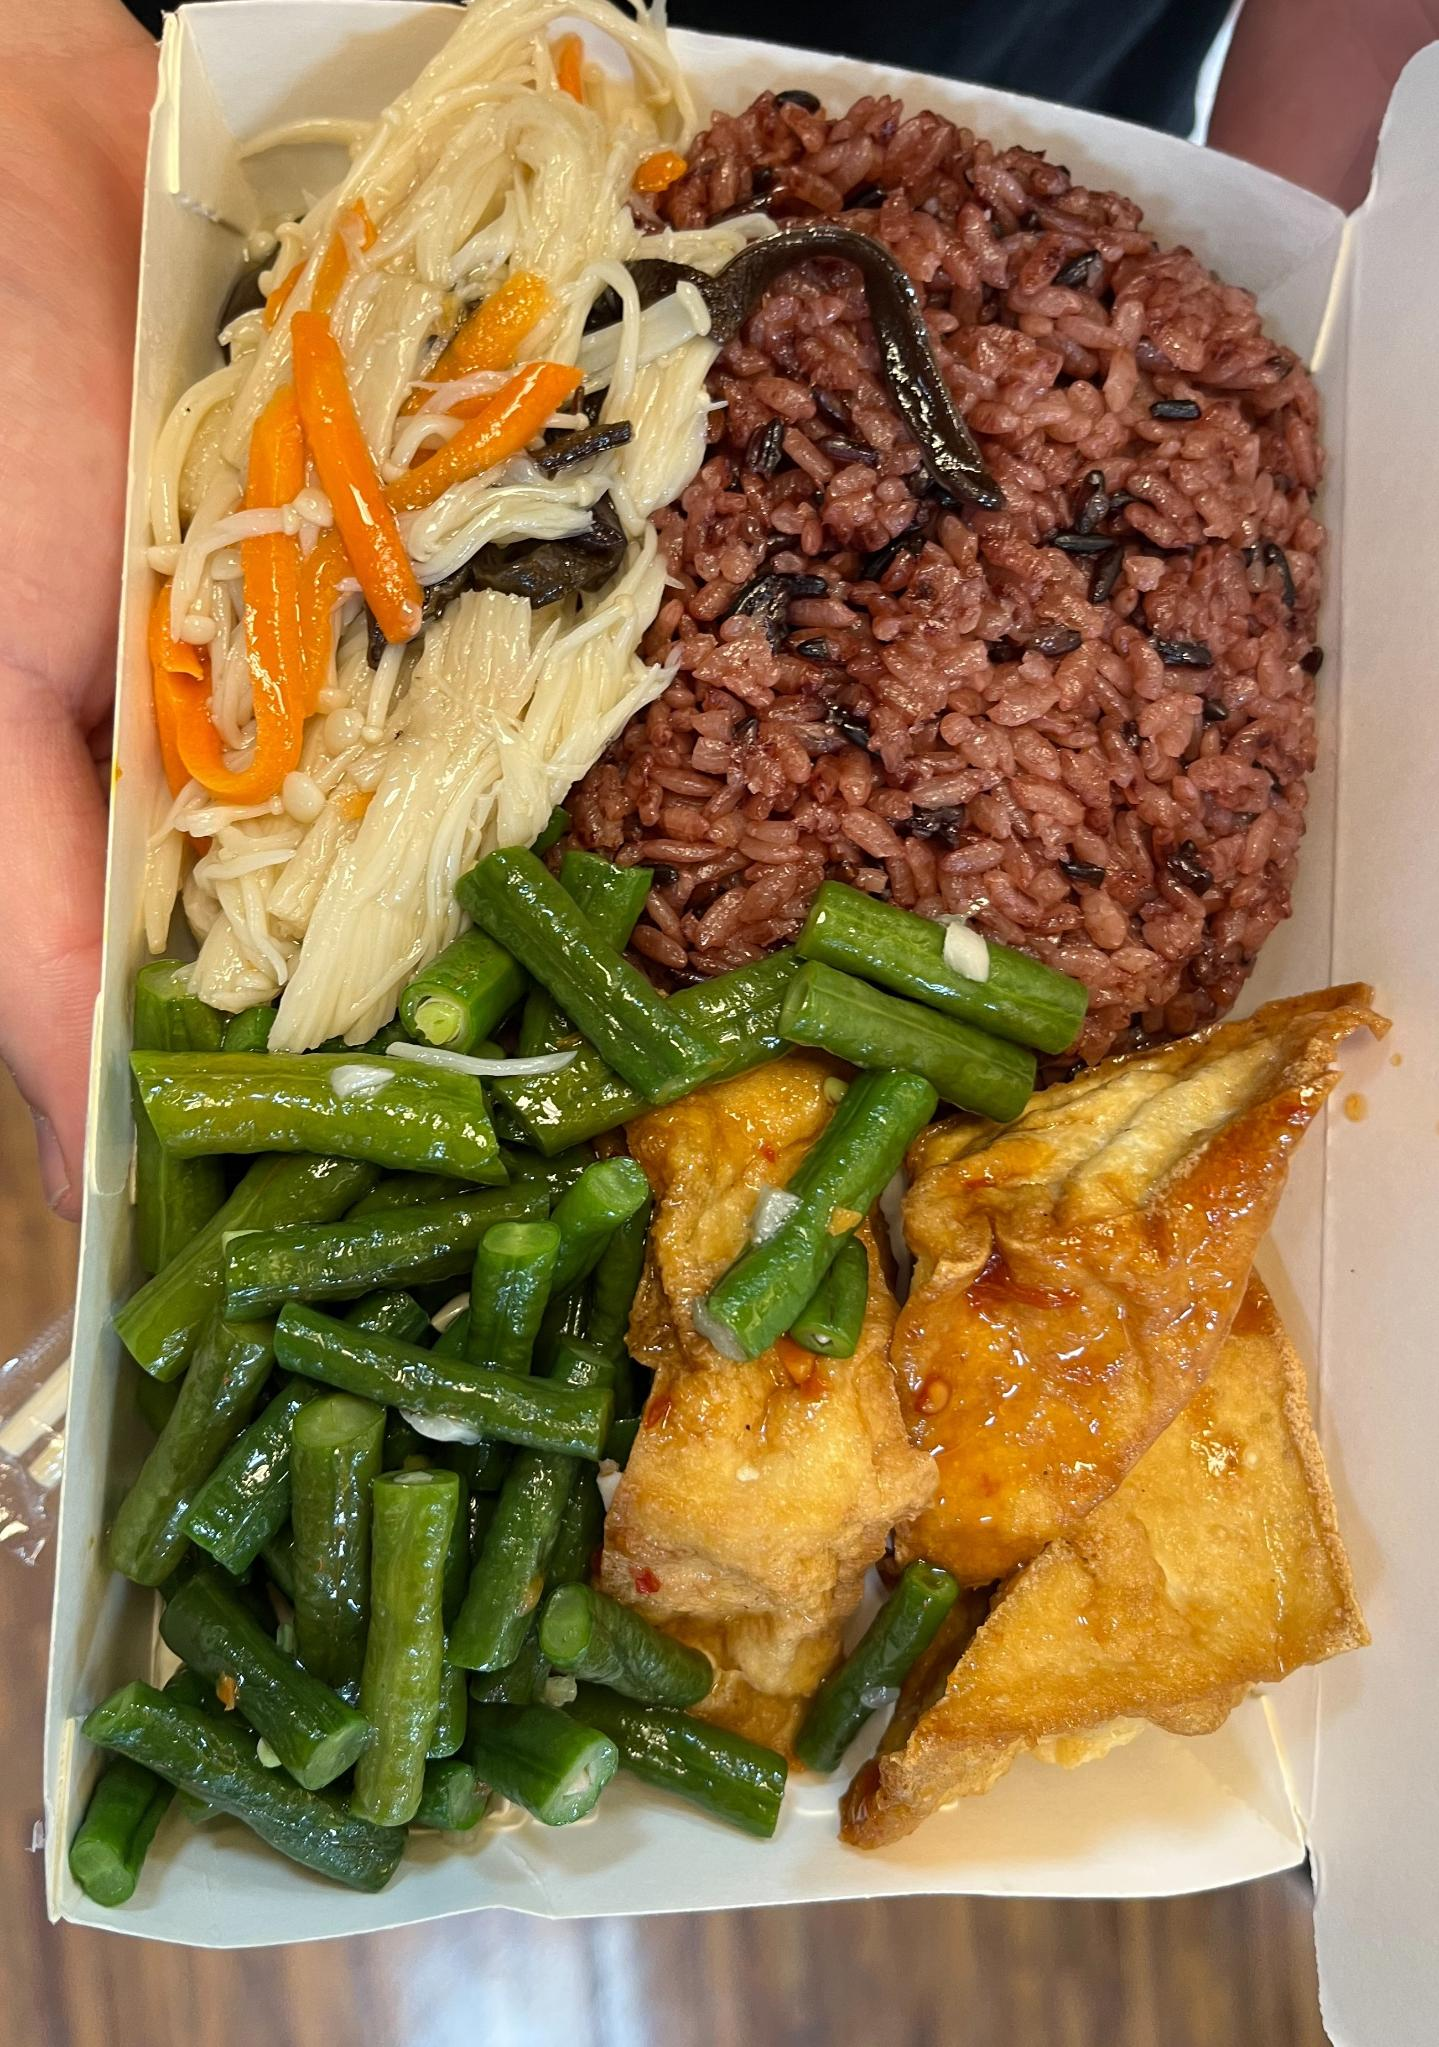big grilled chicken leg: (6, 0, 1378, 1975)
braised fish: (537, 81, 1338, 1034)
braised fish fillet: (617, 981, 1374, 1829), (95, 898, 699, 1879), (131, 12, 726, 1007)
